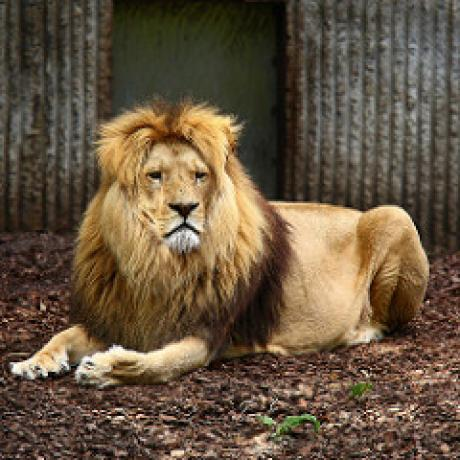Lion: (11, 101, 430, 387)
